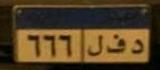6: (57, 31, 74, 59), (26, 33, 41, 57), (43, 33, 57, 58)
daal: (130, 38, 144, 57)
faa: (106, 31, 127, 58)
laam: (87, 33, 104, 59)
